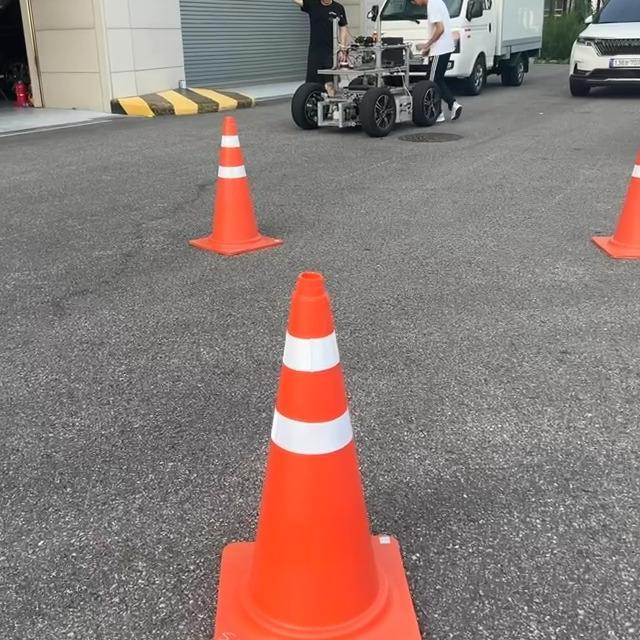fallen_object: (200, 296, 429, 616), (162, 125, 292, 259), (601, 147, 640, 309)
